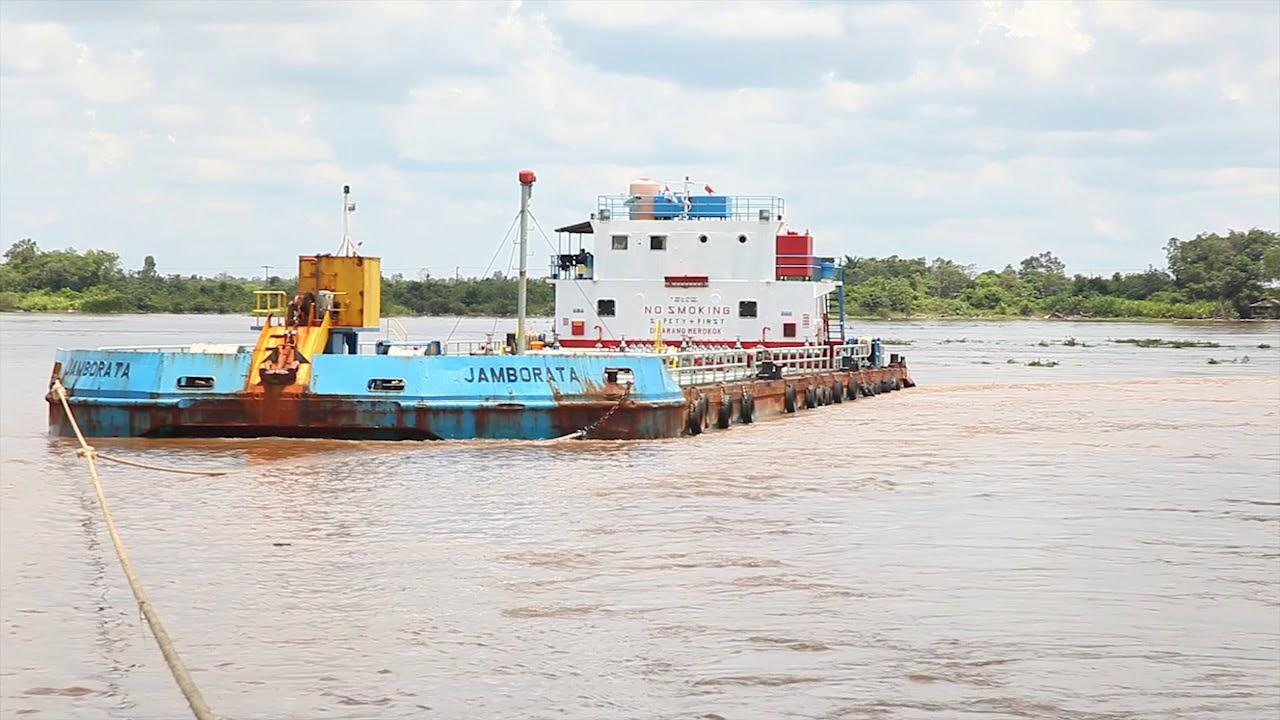Ship: (46, 201, 921, 451)
